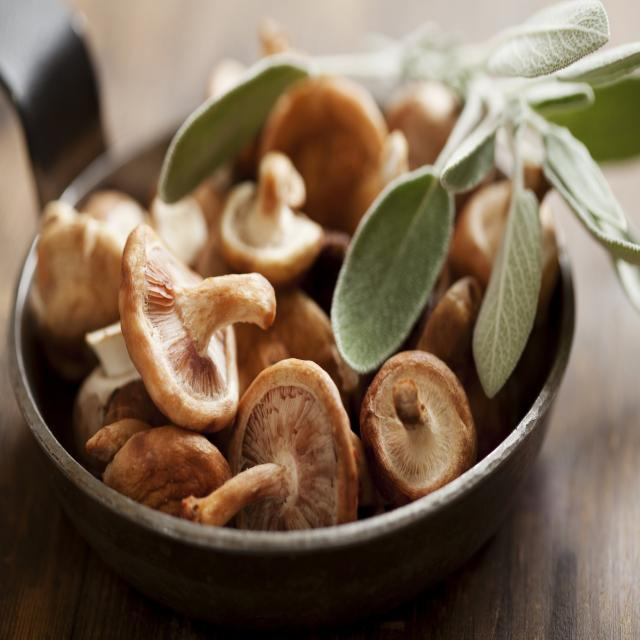Lentinus edodes: (193, 359, 358, 541), (123, 226, 276, 421), (365, 352, 474, 493), (218, 156, 324, 281), (106, 429, 232, 522)
